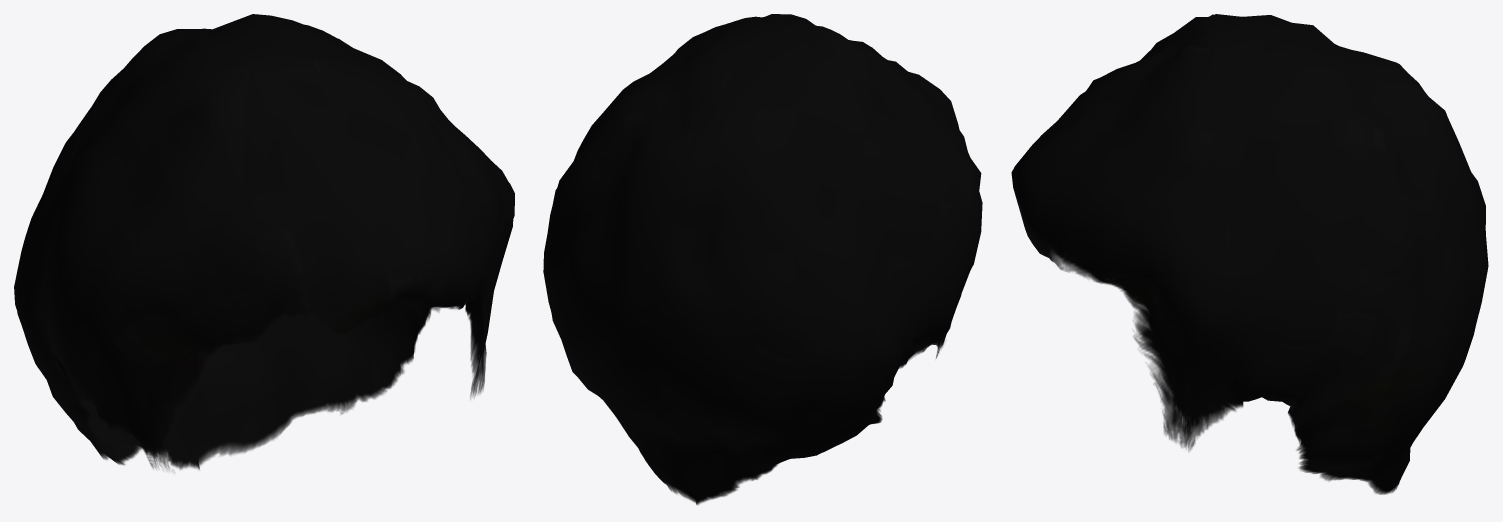
The model's file is hair_short_nat.glb.
The picture shows the model from 3 angles, left to right: view 1: azimuth 30°, elevation 25°; view 2: azimuth 150°, elevation 25°; view 3: azimuth 270°, elevation 25°; orthographic projection. The views are drawn at different scales.
Parts seen in each view (by area): view 1: hair_short_nat; view 2: hair_short_nat; view 3: hair_short_nat.
Part boxes in pixels (bbox=[...]): hair_short_nat: bbox=[14, 14, 514, 471]; hair_short_nat: bbox=[543, 14, 982, 504]; hair_short_nat: bbox=[1011, 14, 1488, 494].
Bounding box in the file's own units: 0.1932 × 0.2151 × 0.2038.
Materials: 1 (1 with a texture image).
